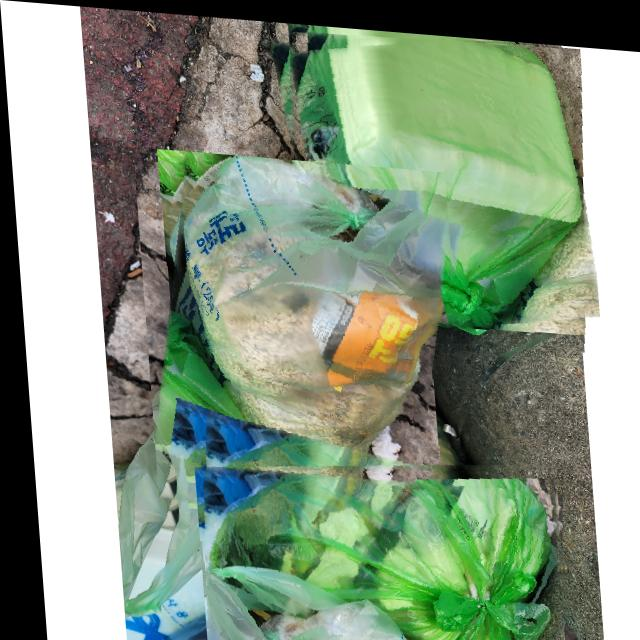general_trashbag: (148, 148, 446, 537), (284, 30, 595, 328), (196, 457, 550, 640)
